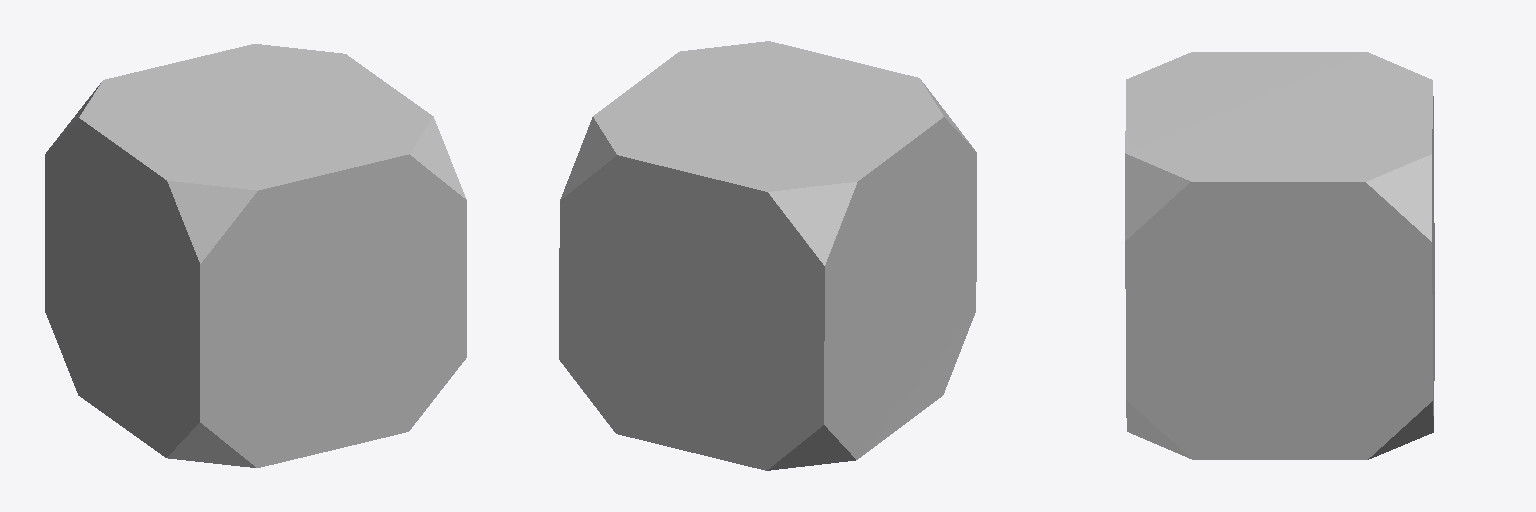
The model's file is cube_cutted_smoothed_90.obj.
3 views of the same model, side by side, from view 1: azimuth 30°, elevation 25°; view 2: azimuth 150°, elevation 25°; view 3: azimuth 270°, elevation 25° (orthographic).
Bounding box in the file's own units: 0.0836 × 0.0836 × 0.0838.